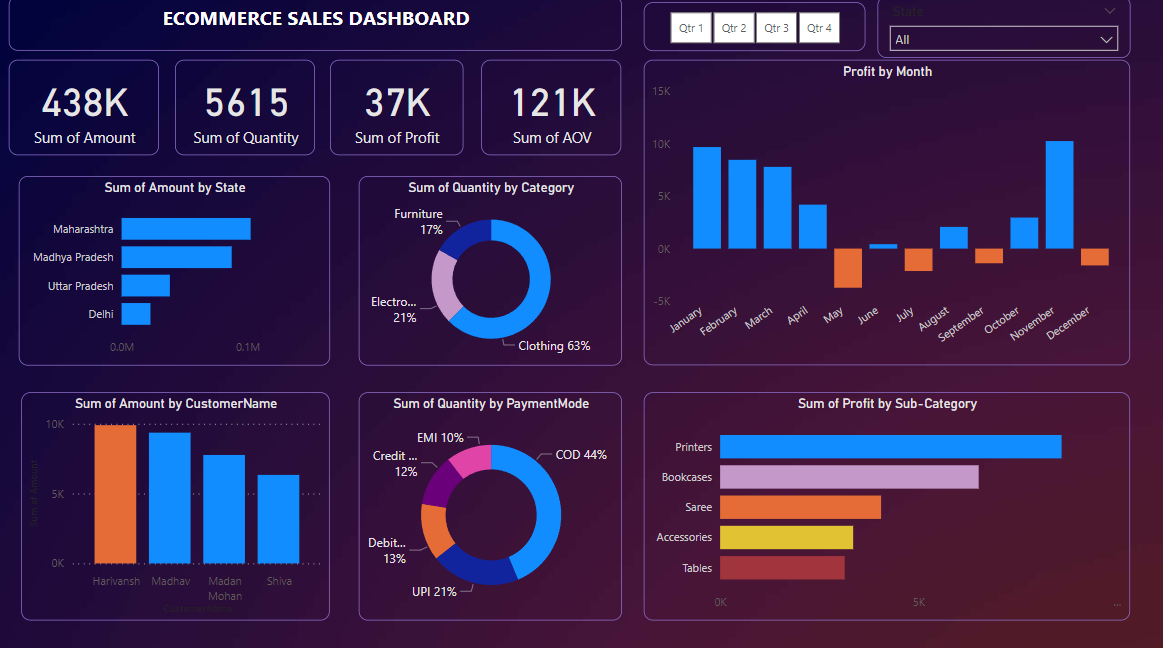

This screenshot's page, from the dashboard's own definition file:
{"tool":"powerbi","page":{"name":"Page 1","canvas":[1280,720],"ordinal":0},"visuals":[{"type":"textbox","box":[9.5,0,673,60.3],"z":0},{"type":"columnChart","title":"Profit by Month","fields":{"Y":["Details.Profit"],"Category":["Orders.Order Date.Variation.Date Hierarchy.Month"]},"box":[706.3,69.8,533.3,334.9],"z":1000},{"type":"barChart","fields":{"Category":["Details.Sub-Category"],"Y":["Details.Profit"]},"box":[706.3,434.9,533.3,250.8],"z":2000},{"type":"donutChart","fields":{"Category":["Details.Category"],"Y":["Details.Quantity"]},"box":[393.7,196.8,288.9,207.9],"z":3000},{"type":"donutChart","fields":{"Y":["Details.Quantity"],"Category":["Details.PaymentMode"]},"box":[393.7,434.9,288.9,250.8],"z":4000},{"type":"card","fields":{"Values":["Details.Amount"]},"box":[9.5,69.8,165.1,104.8],"z":5000},{"type":"card","fields":{"Values":["Details.Quantity"]},"box":[192.1,69.8,154,104.8],"z":6000},{"type":"card","fields":{"Values":["Details.Profit"]},"box":[361.9,69.8,146,104.8],"z":7000},{"type":"card","fields":{"Values":["Details.AOV"]},"box":[528.6,69.8,154,104.8],"z":8000},{"type":"barChart","fields":{"Category":["Orders.State"],"Y":["Details.Amount"]},"box":[20.6,196.8,341.3,207.9],"z":9000},{"type":"columnChart","fields":{"Category":["Orders.CustomerName"],"Y":["Details.Amount"]},"box":[23.8,434.9,338.1,250.8],"z":10000},{"type":"slicer","fields":{"Values":["Orders.Order Date.Variation.Date Hierarchy.Quarter"]},"box":[706.3,6.3,242.9,54],"z":11000},{"type":"slicer","fields":{"Values":["Orders.State"]},"box":[962.5,0,277.5,68.3],"z":12000}]}

Visuals, with their boxes in screenshot pixels (x1, y1, x2, y2), scaled from the page's 1280x720 canvas onto the 1163x648 screenshot:
textbox: (x1=9, y1=0, x2=620, y2=54)
"Profit by Month" columnChart: (x1=642, y1=63, x2=1126, y2=364)
barChart - Details.Sub-Category x Details.Profit: (x1=642, y1=391, x2=1126, y2=617)
donutChart - Details.Category x Details.Quantity: (x1=358, y1=177, x2=620, y2=364)
donutChart - Details.Quantity x Details.PaymentMode: (x1=358, y1=391, x2=620, y2=617)
card - Details.Amount: (x1=9, y1=63, x2=159, y2=157)
card - Details.Quantity: (x1=175, y1=63, x2=314, y2=157)
card - Details.Profit: (x1=329, y1=63, x2=461, y2=157)
card - Details.AOV: (x1=480, y1=63, x2=620, y2=157)
barChart - Orders.State x Details.Amount: (x1=19, y1=177, x2=329, y2=364)
columnChart - Orders.CustomerName x Details.Amount: (x1=22, y1=391, x2=329, y2=617)
slicer - Orders.Order Date.Variation.Date Hierarchy.Quarter: (x1=642, y1=6, x2=862, y2=54)
slicer - Orders.State: (x1=875, y1=0, x2=1127, y2=61)
